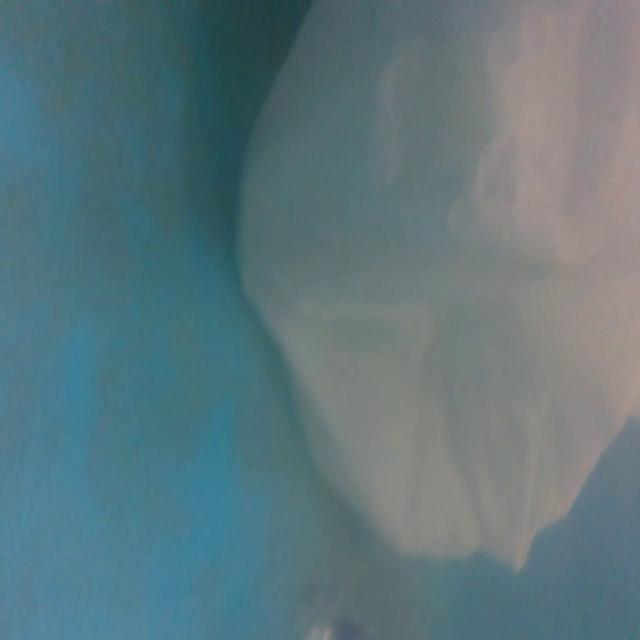plastic bags: (232, 0, 640, 571)
